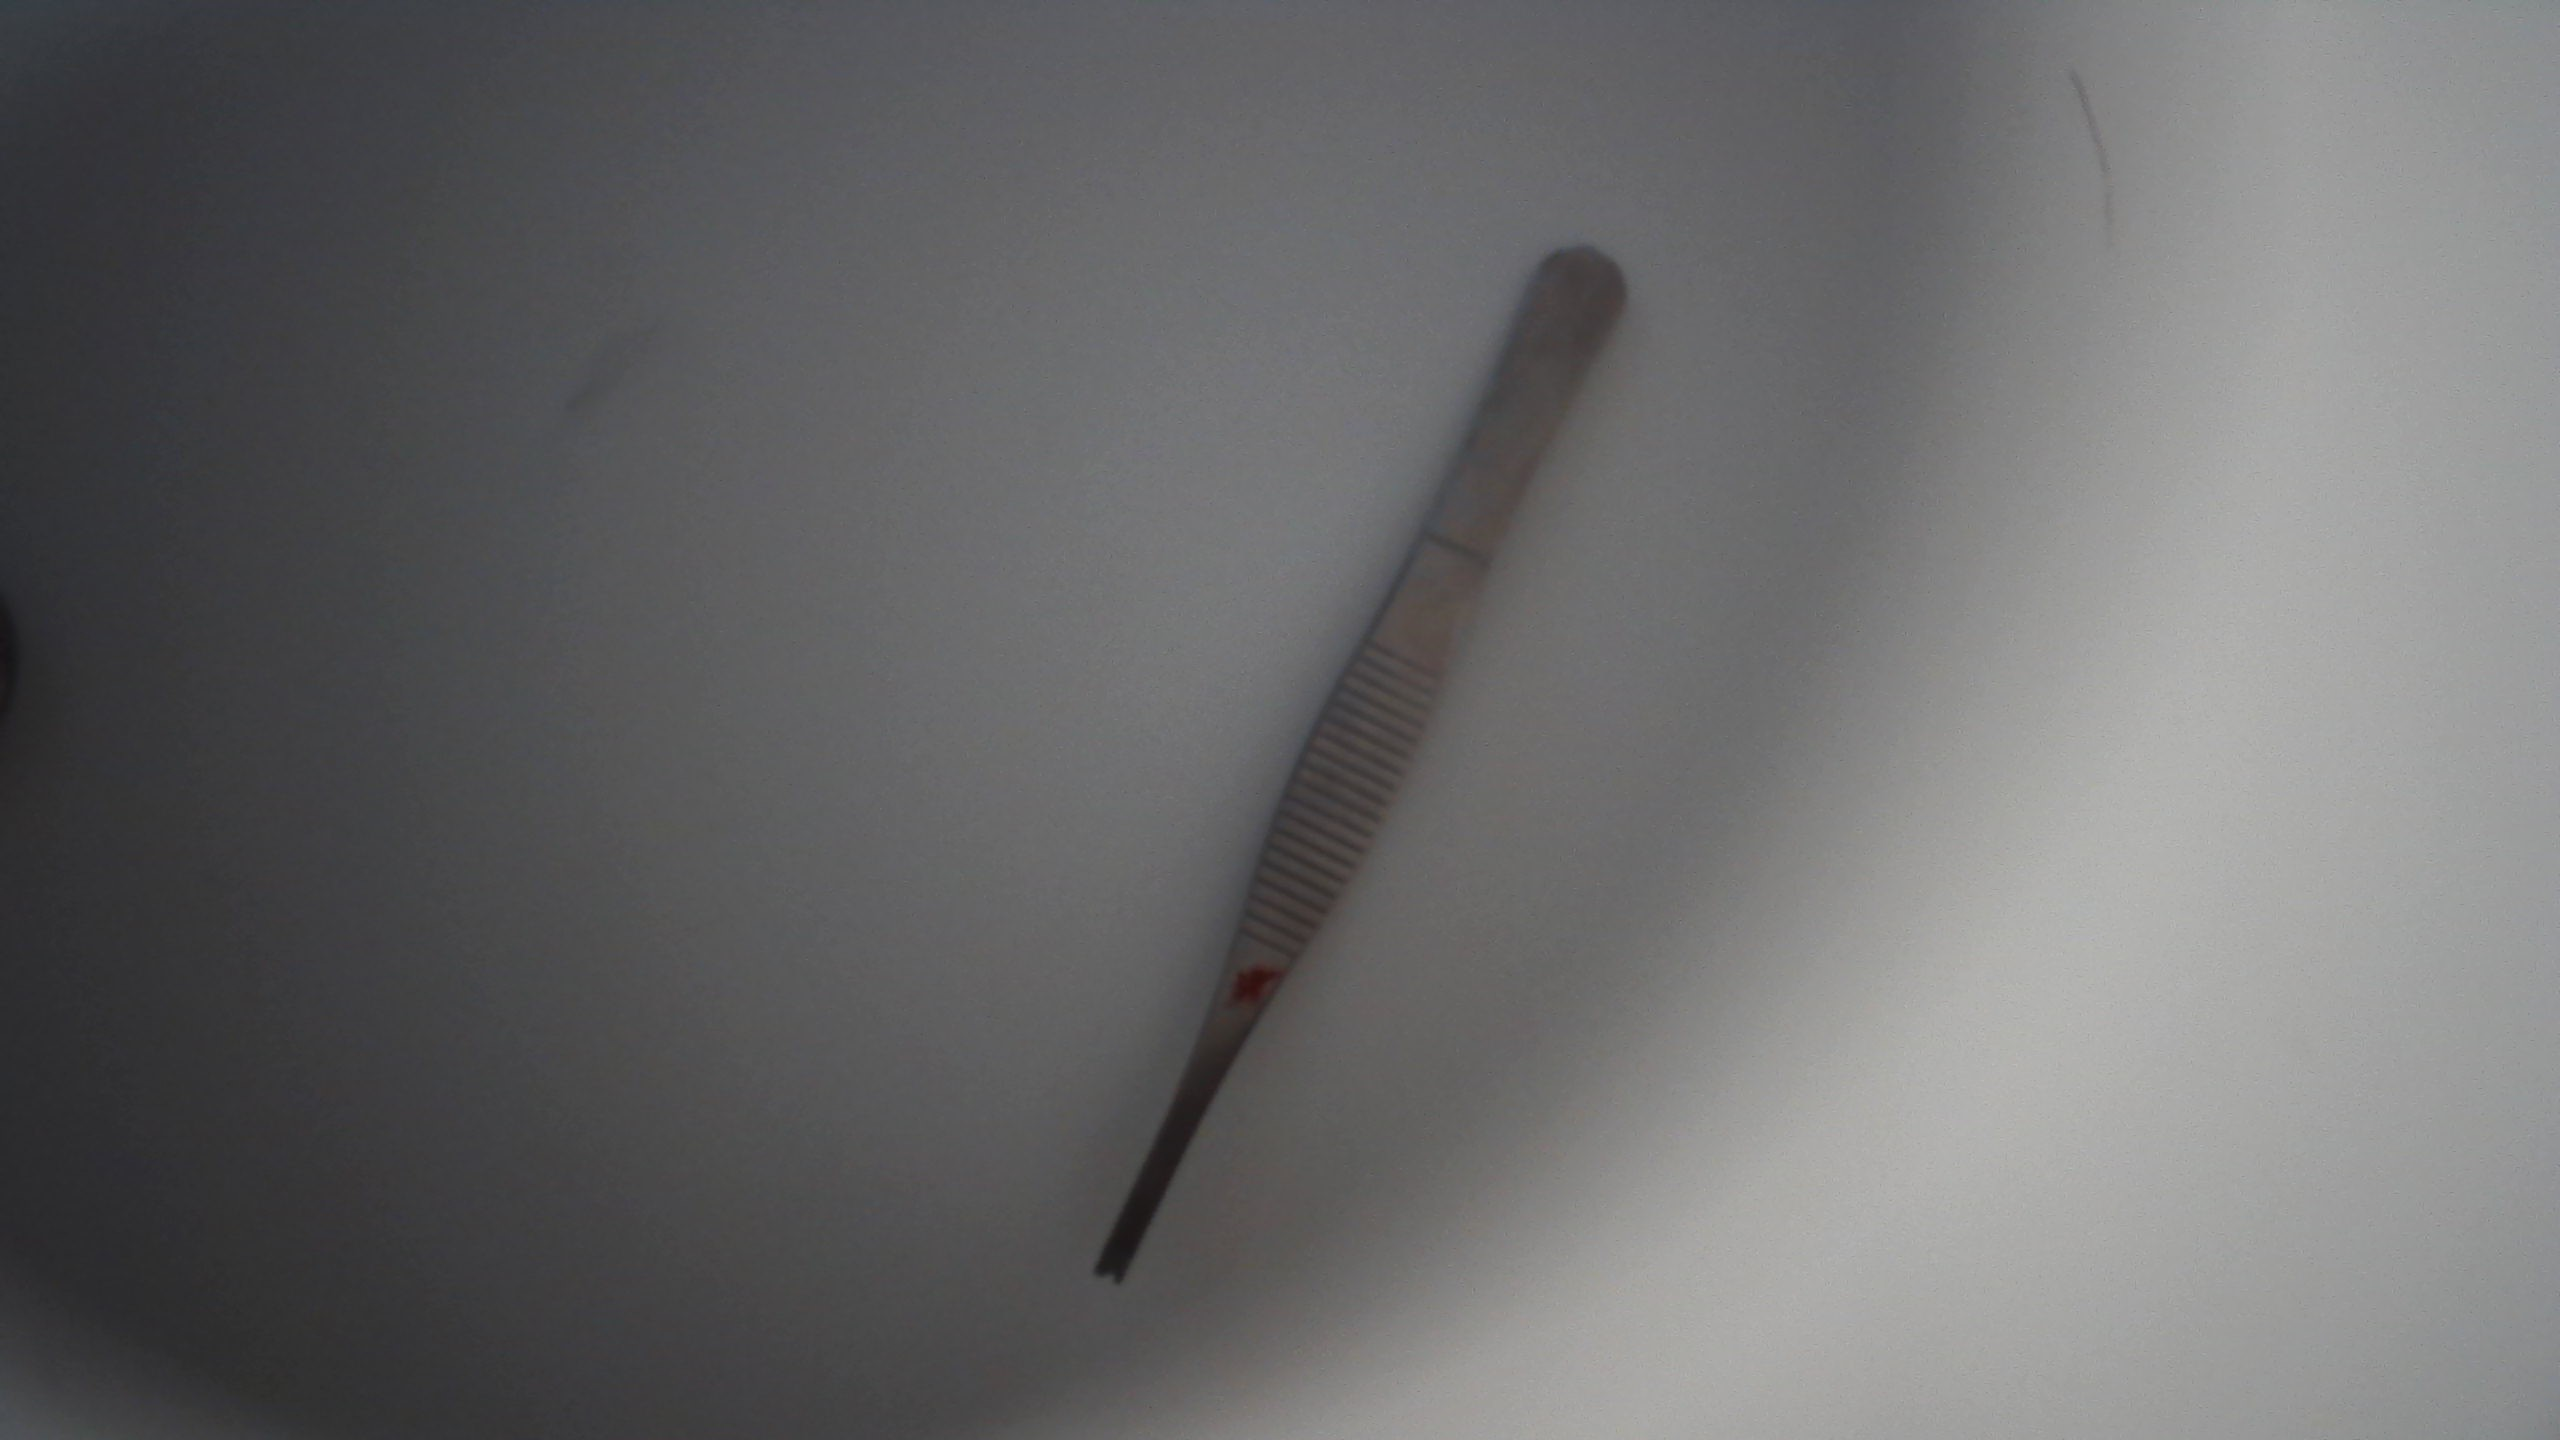Stain: (1227, 958, 1285, 1009)
